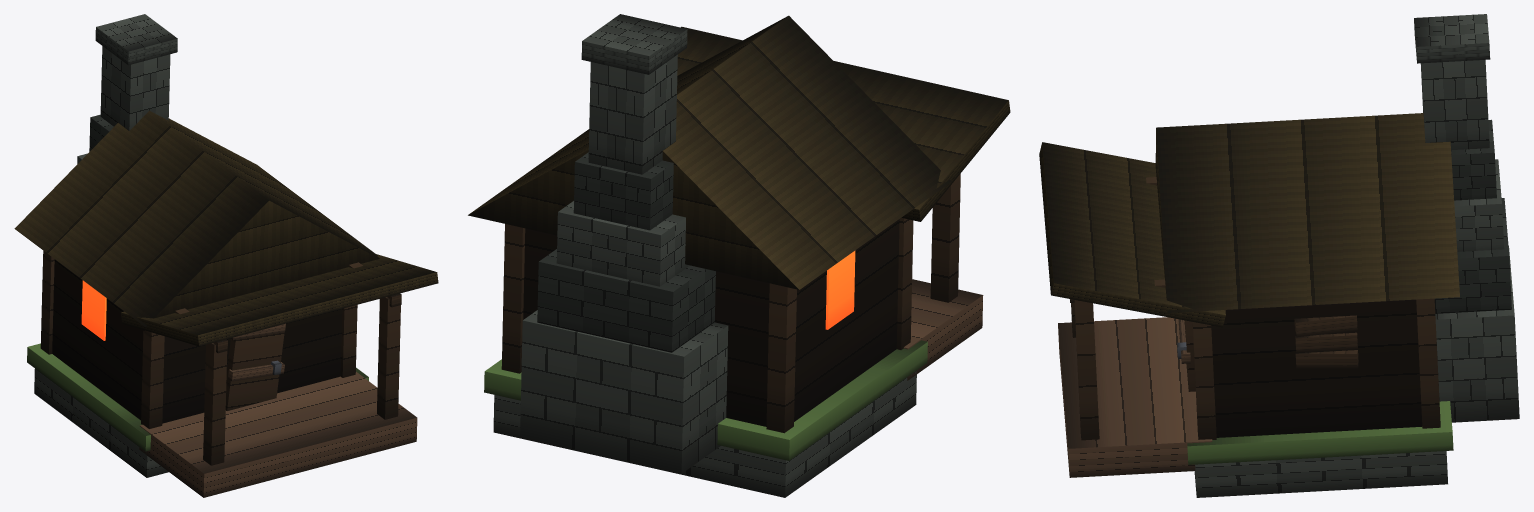
The model's file is cottage.glb.
The picture shows the model from 3 angles, left to right: view 1: azimuth 30°, elevation 25°; view 2: azimuth 150°, elevation 25°; view 3: azimuth 270°, elevation 25°; orthographic projection. The views are drawn at different scales.
Visible parts, largest first — view 1: cottage; view 2: cottage; view 3: cottage.
Boxes of the visible parts, x1,y1,x2,y2 form: cottage: (14, 14, 438, 497); cottage: (468, 14, 1010, 497); cottage: (1039, 14, 1519, 497).
Size of the model in its own units: 1.53 by 1.94 by 2.1.
1 material, 1 textured.
